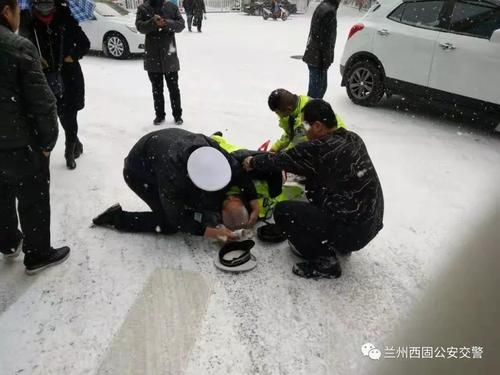fall: (202, 127, 289, 241)
